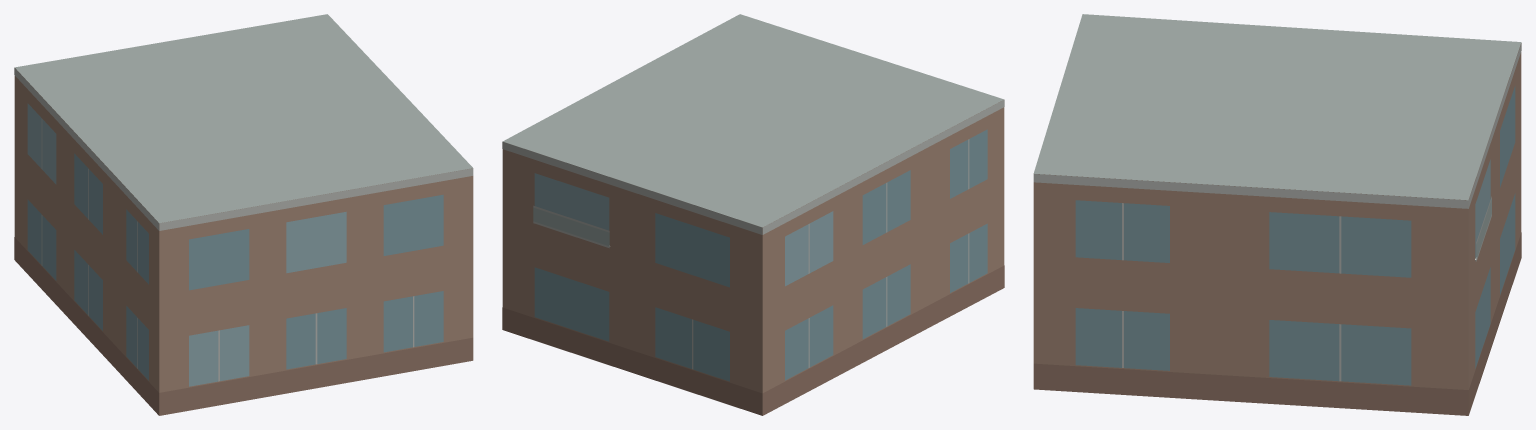
Rendered from survey-upis-32676580.glb.
The picture shows the model from 3 angles, left to right: view 1: azimuth 30°, elevation 25°; view 2: azimuth 150°, elevation 25°; view 3: azimuth 270°, elevation 25°; orthographic projection. The views are drawn at different scales.
Visible parts, largest first — view 1: survey-upis-32676580.tmp; view 2: survey-upis-32676580.tmp; view 3: survey-upis-32676580.tmp.
Boxes of the visible parts, x1,y1,x2,y2 form: survey-upis-32676580.tmp: (14,14,473,415); survey-upis-32676580.tmp: (502,14,1004,415); survey-upis-32676580.tmp: (1033,14,1521,415).
Bounding box in the file's own units: 11.31 × 6.1 × 12.52.
